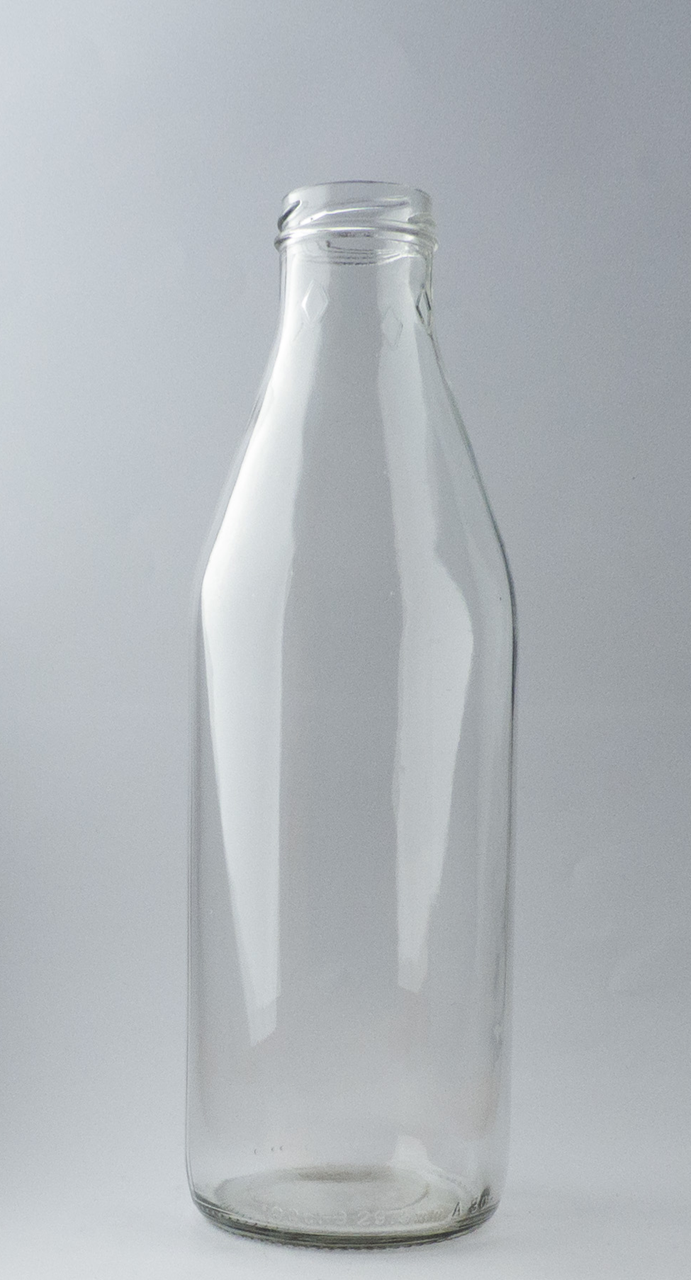glass_bottle: (174, 175, 526, 1258)
